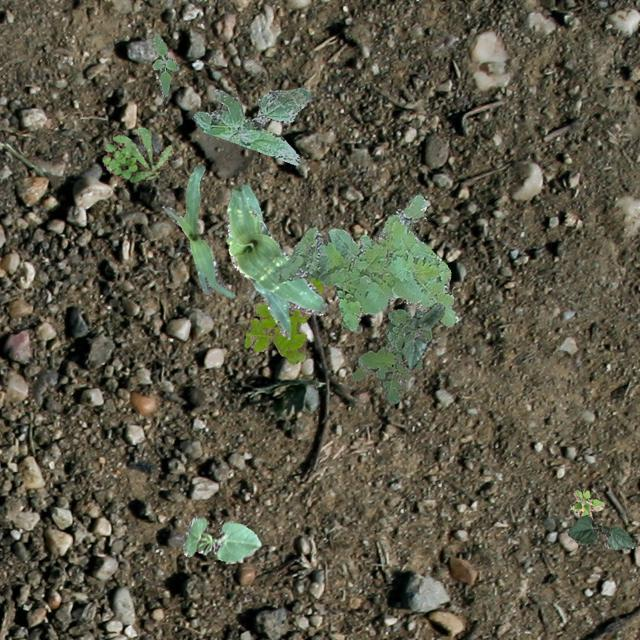crop: (226, 182, 326, 338), (160, 162, 233, 298), (182, 514, 260, 560), (401, 302, 444, 368), (566, 514, 636, 548)
weed: (272, 193, 456, 329), (192, 86, 312, 164), (350, 306, 430, 402), (244, 276, 322, 364), (101, 126, 172, 182), (150, 31, 178, 96), (570, 488, 602, 516)
